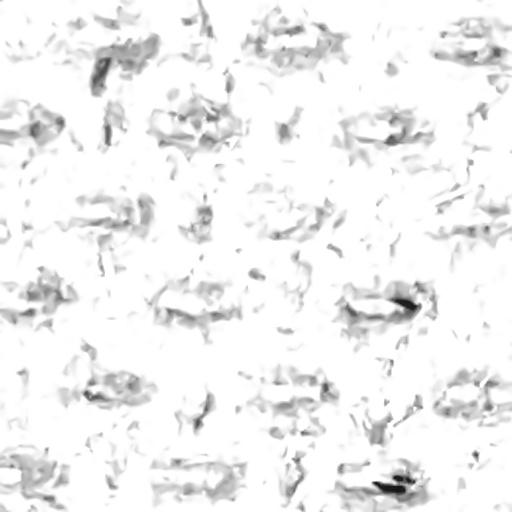egg: (390, 297, 419, 311), (372, 481, 405, 493), (392, 474, 415, 485)
